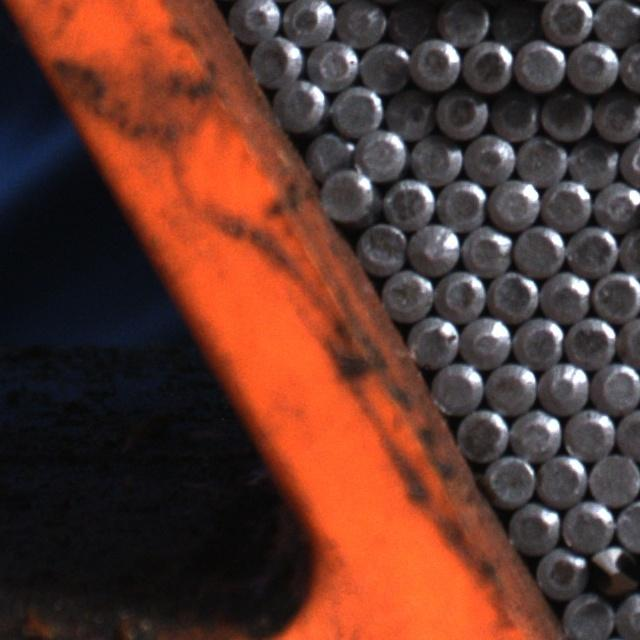tool: (317, 167, 373, 222), (560, 499, 614, 553), (484, 359, 537, 413), (587, 450, 640, 504), (563, 225, 617, 278), (273, 76, 326, 130), (512, 314, 565, 367), (537, 360, 590, 413), (247, 33, 300, 86), (535, 452, 587, 506), (566, 38, 618, 92), (462, 40, 514, 93), (563, 407, 615, 460), (512, 223, 564, 276), (565, 314, 617, 367), (540, 87, 592, 140), (506, 501, 558, 554), (458, 406, 510, 459), (532, 546, 584, 599), (562, 589, 616, 640), (434, 269, 486, 321), (382, 176, 434, 228), (510, 408, 562, 460), (487, 268, 539, 320), (408, 221, 460, 273), (538, 178, 590, 230), (307, 36, 359, 88), (514, 132, 566, 184), (404, 314, 456, 366), (514, 39, 565, 92), (358, 42, 411, 93), (356, 220, 407, 273), (590, 268, 640, 322), (460, 224, 511, 276), (488, 176, 539, 228), (436, 86, 487, 138), (410, 133, 462, 184), (460, 314, 511, 366), (539, 270, 590, 322), (380, 268, 431, 320), (429, 360, 480, 412), (357, 128, 408, 180), (566, 136, 618, 187), (485, 452, 536, 504), (463, 132, 514, 183), (435, 178, 485, 230), (410, 38, 460, 90), (590, 177, 640, 229), (592, 543, 640, 597), (489, 90, 540, 140), (330, 84, 381, 134), (385, 88, 435, 139), (303, 128, 355, 177), (592, 360, 640, 411), (488, 0, 539, 48), (385, 0, 436, 47), (280, 0, 334, 44), (438, 0, 488, 47), (336, 0, 386, 47), (593, 92, 640, 142), (540, 0, 592, 43), (593, 0, 640, 46), (228, 0, 278, 41), (614, 498, 640, 550), (616, 406, 640, 460), (616, 226, 640, 278), (615, 591, 640, 640), (618, 314, 640, 366), (618, 134, 640, 184)
